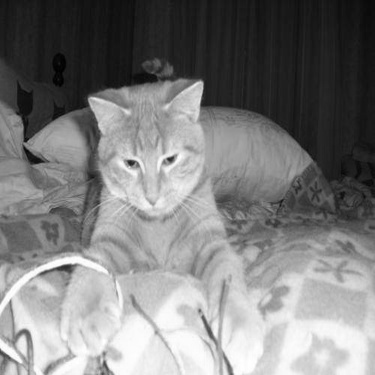cat: (15, 56, 341, 368)
